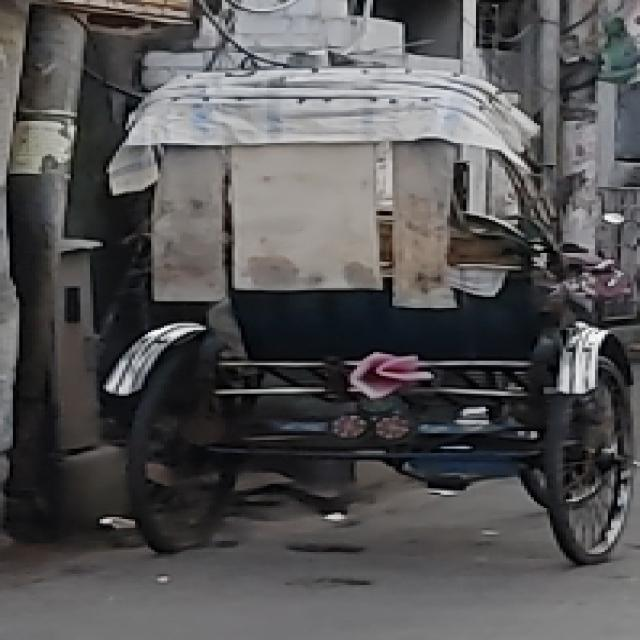rickshaw: (68, 49, 640, 570)
